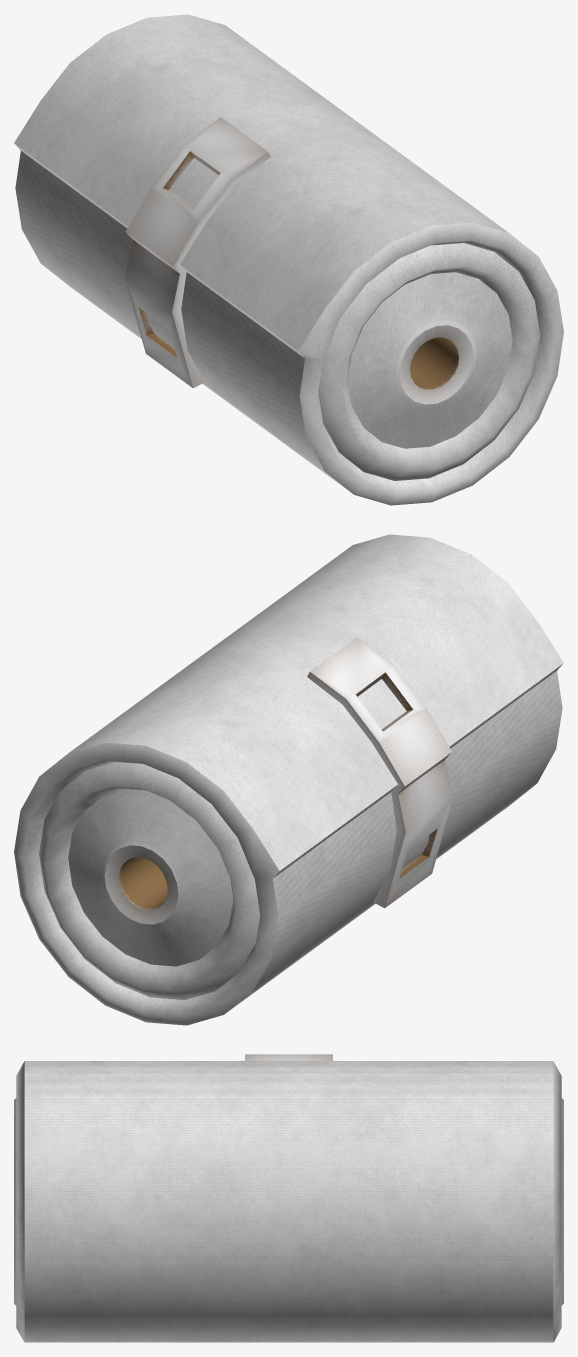
The model's file is GrandeAtadura.fbx.
3 renders of one model, top to bottom at view 1: azimuth 30°, elevation 25°; view 2: azimuth 150°, elevation 25°; view 3: azimuth 270°, elevation 25°, orthographic. The views are drawn at different scales.
Parts seen in each view (by area): view 1: GrandeAtadura; view 2: GrandeAtadura; view 3: GrandeAtadura.
Part boxes in pixels (x1,y1,x2,y2): GrandeAtadura: (14,14,563,505); GrandeAtadura: (14,534,563,1025); GrandeAtadura: (14,1054,563,1342).
Bounding box in the file's own units: 9.74 × 9.41 × 18.24.
